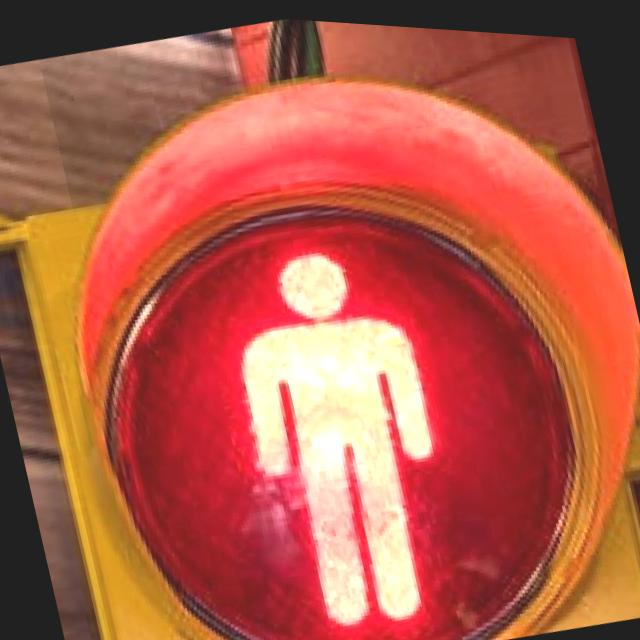red_light: (192, 191, 483, 640)
